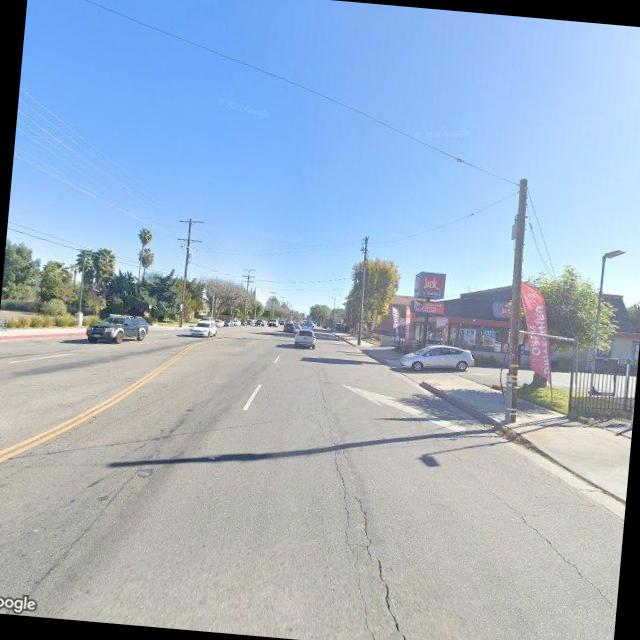pothole: (308, 408, 421, 634), (477, 484, 622, 622)
